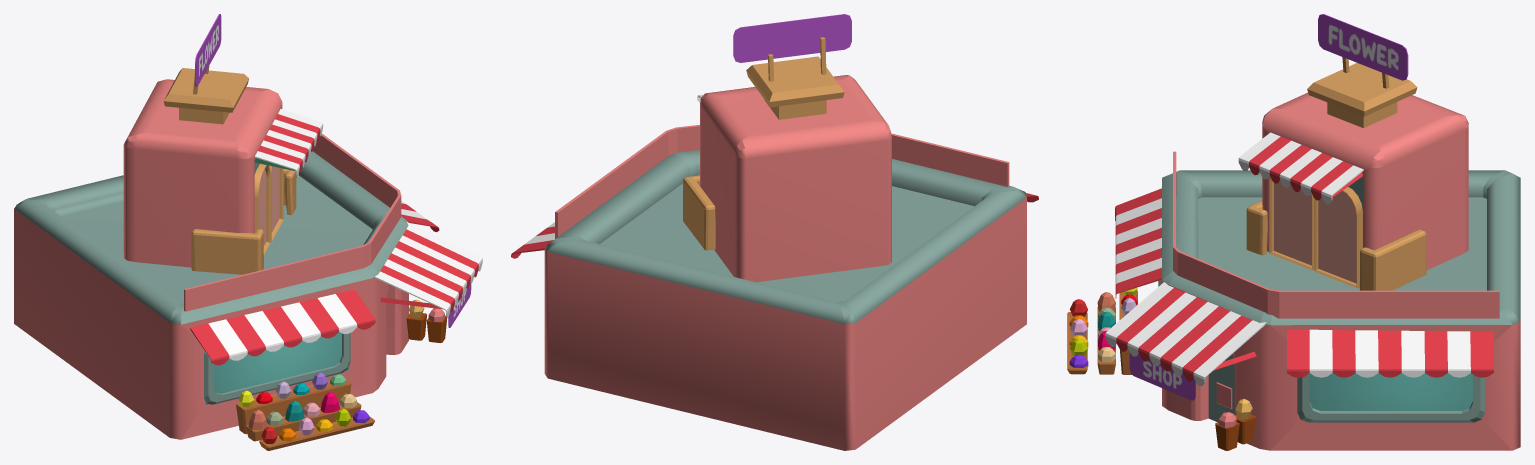
Rendered from SM_Flowers_Shop502.fbx.
3 renders of one model, left to right at view 1: azimuth 30°, elevation 25°; view 2: azimuth 150°, elevation 25°; view 3: azimuth 270°, elevation 25°, orthographic. The views are drawn at different scales.
Visible parts, largest first — view 1: SM_Flower_Shop502; view 2: SM_Flower_Shop502; view 3: SM_Flower_Shop502.
Boxes of the visible parts, <box> form: SM_Flower_Shop502: <box>14,14,482,450</box>; SM_Flower_Shop502: <box>511,14,1038,450</box>; SM_Flower_Shop502: <box>1067,14,1520,450</box>.
Size of the model in its own units: 848 by 764 by 930.
